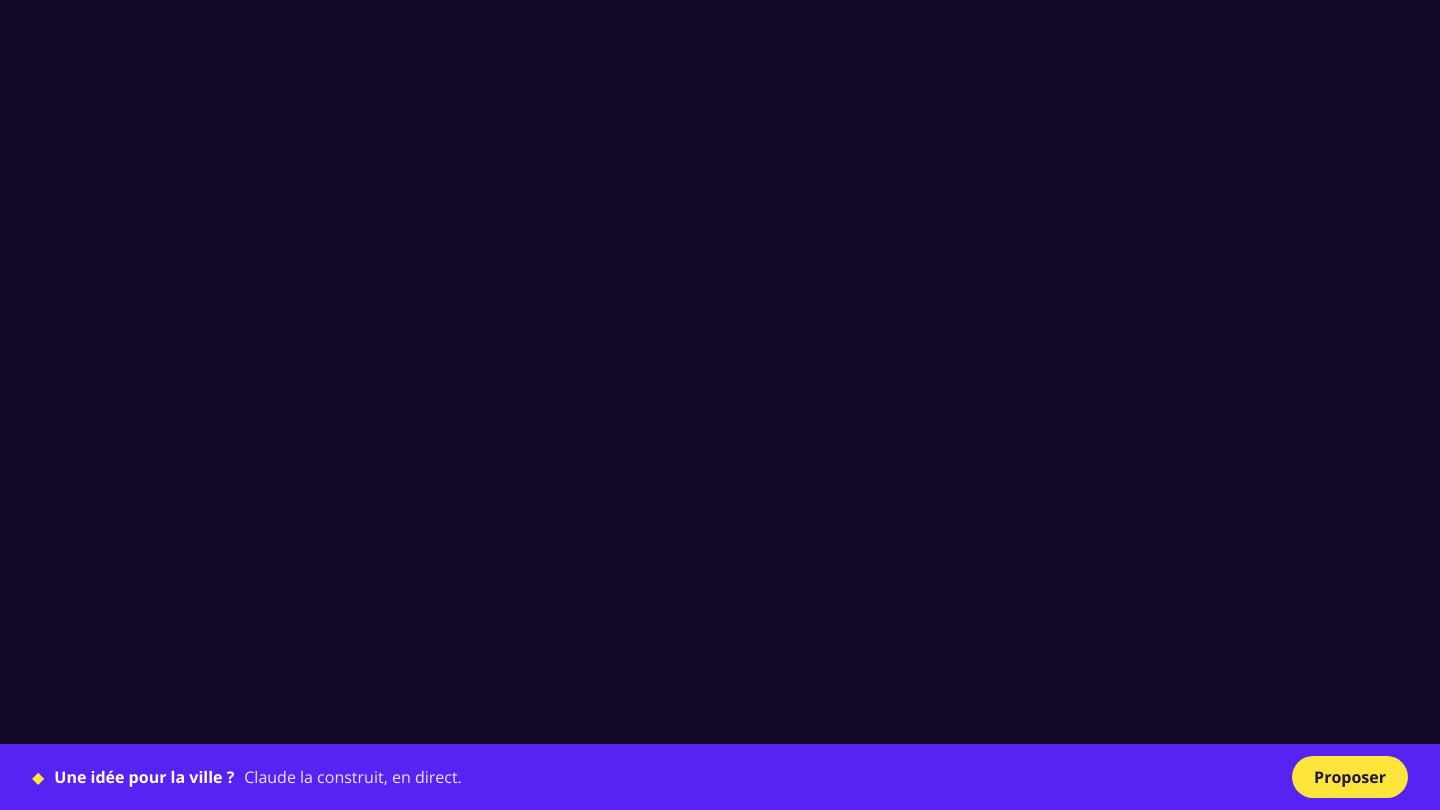
Test: IdeaBanner › confirme même sans référence
Click the button "Proposer". click: {"x": 1350, "y": 777}
box: [1292,756,1408,798]
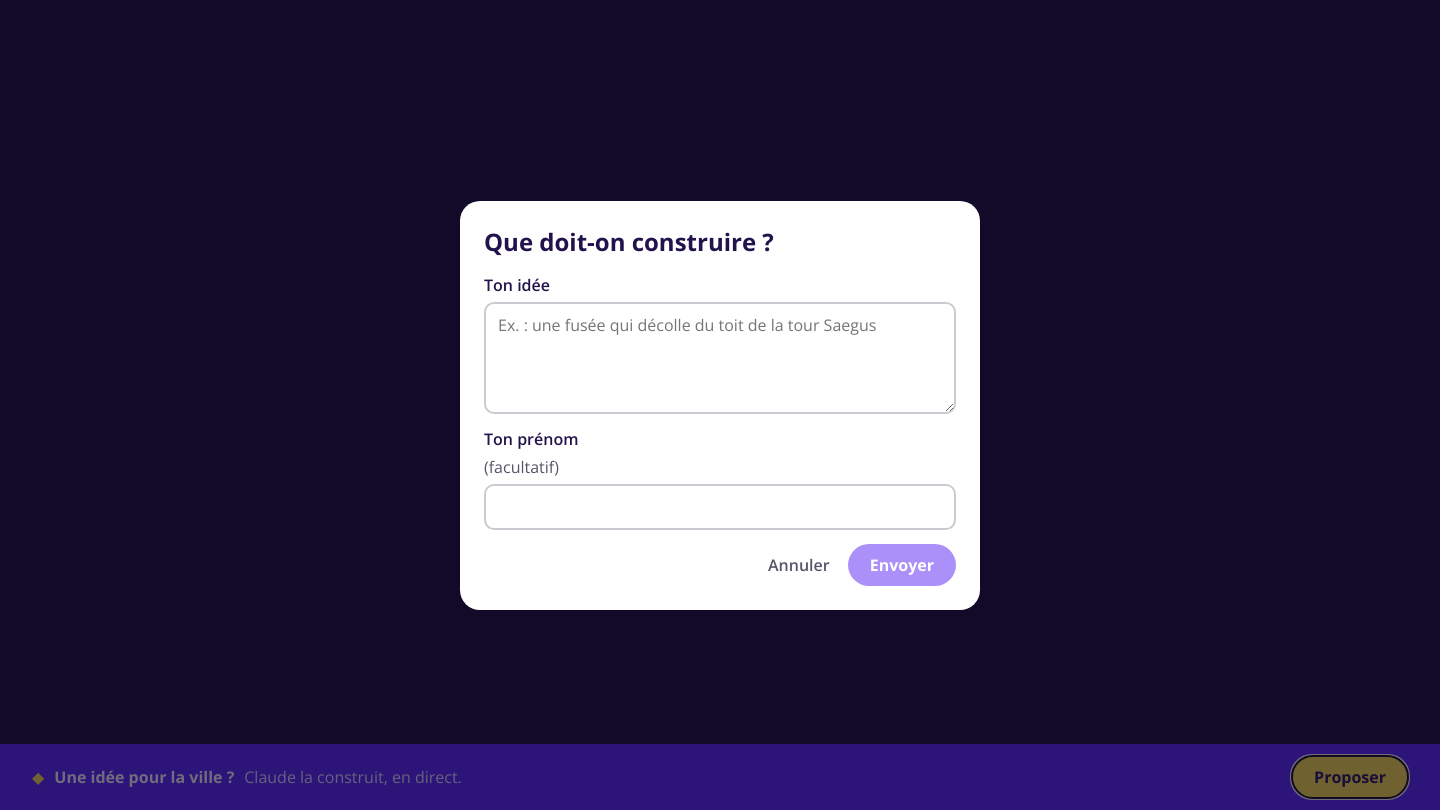
Type "Une fusée qui décolle de la tour" into the text box labelled "Ton idée". click: {"x": 720, "y": 358}
box: [484,302,956,414]
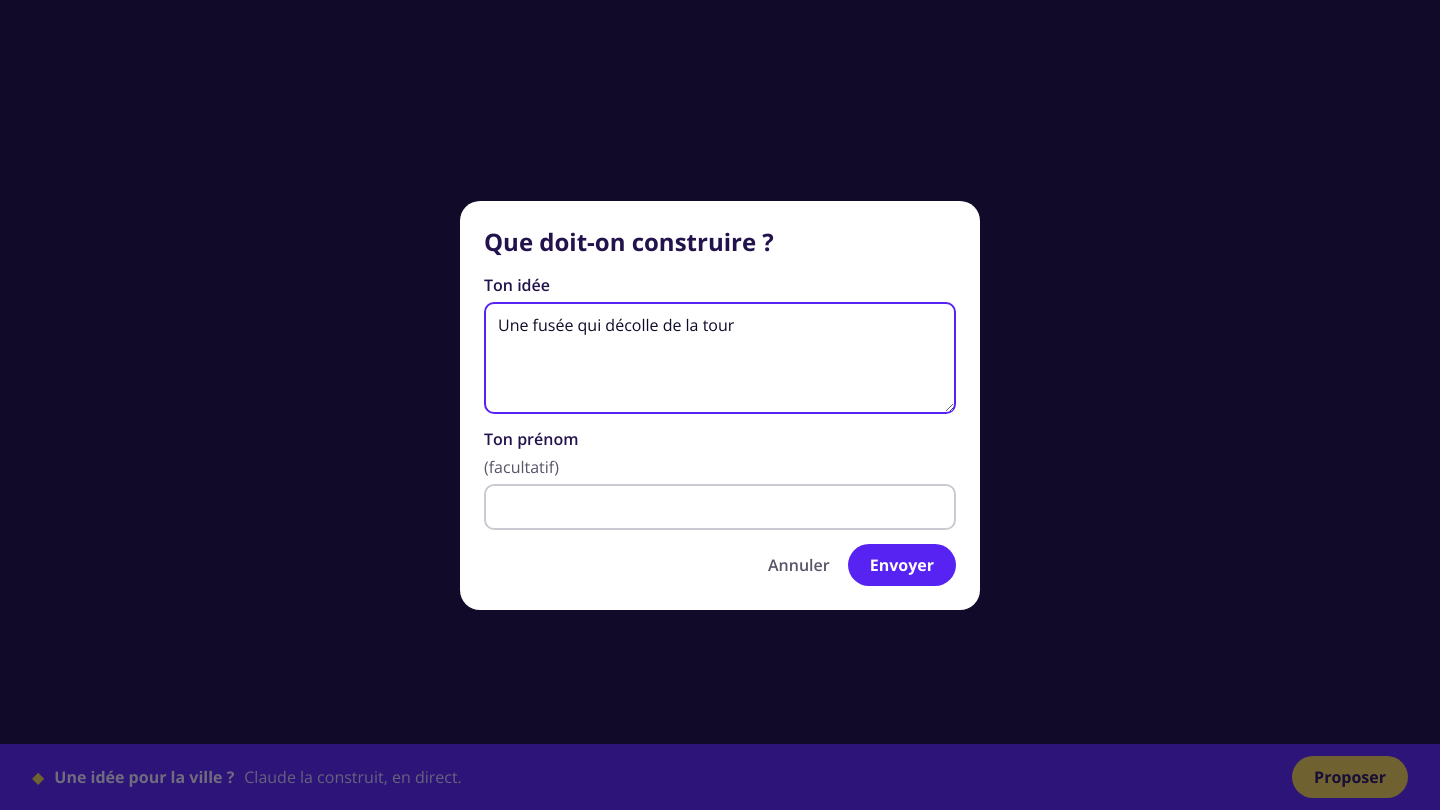
Click the button "Envoyer". click: {"x": 902, "y": 564}
box: [848,544,956,586]
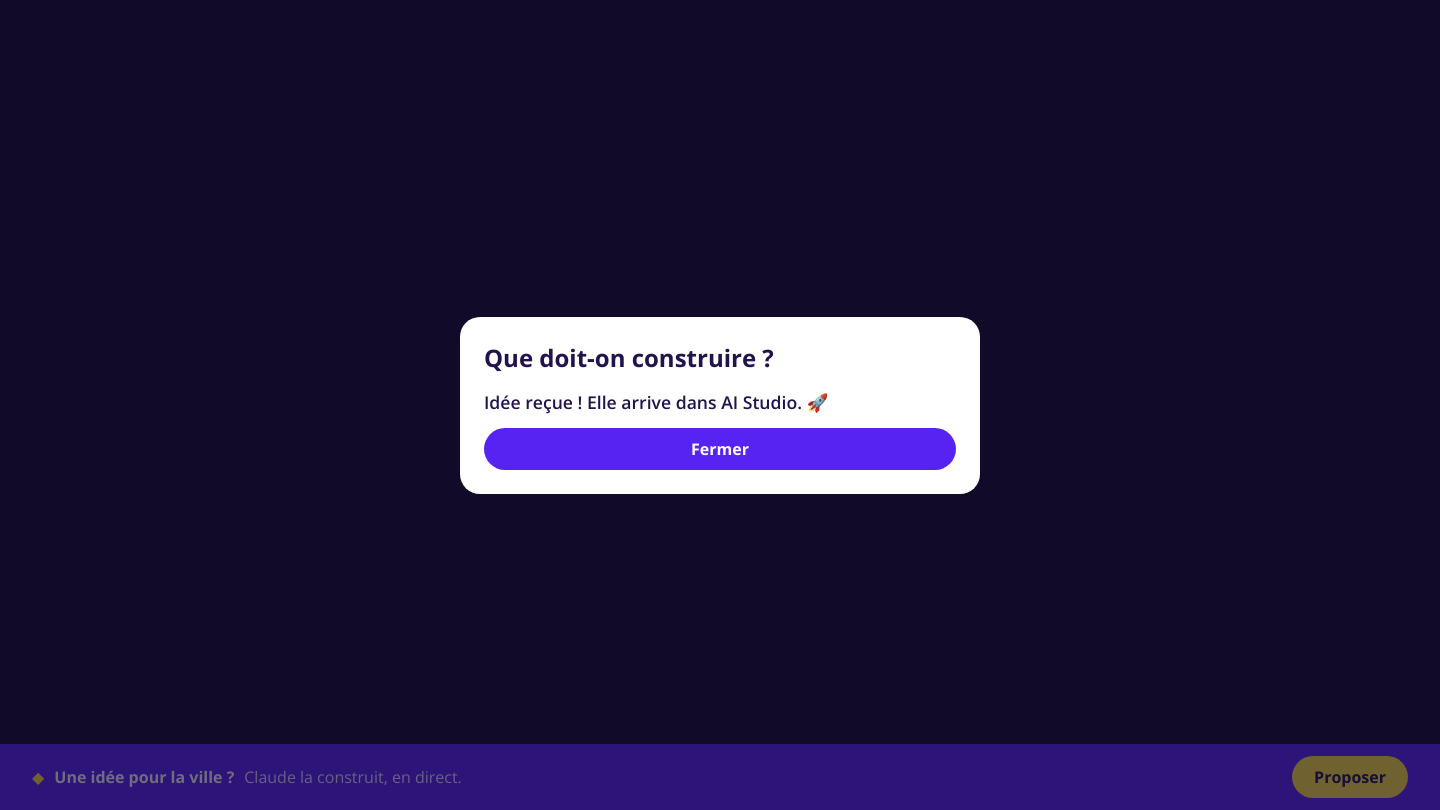
Check: the message shows "Idée reçue !", box [484,390,828,414]
